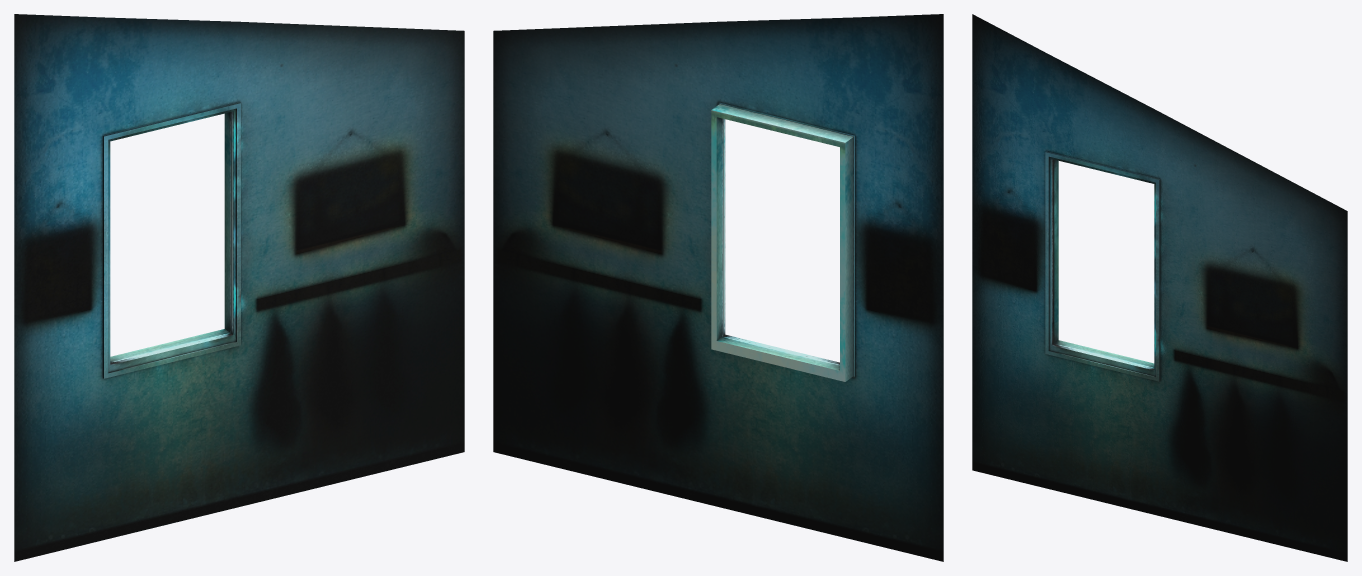
File: paredefundo.fbx
3 renders of one model, left to right at view 1: azimuth 30°, elevation 25°; view 2: azimuth 150°, elevation 25°; view 3: azimuth 330°, elevation 25°, orthographic. The views are drawn at different scales.
Parts seen in each view (by area): view 1: Object_7; view 2: Object_7; view 3: Object_7.
Boxes of the visible parts, box(x1,y1,x2,y2) form: Object_7: box(14, 14, 464, 561); Object_7: box(493, 14, 943, 561); Object_7: box(972, 14, 1347, 561).
Size of the model in its own units: 330 by 384 by 11.96.
Materials: 1 (1 with a texture image).
